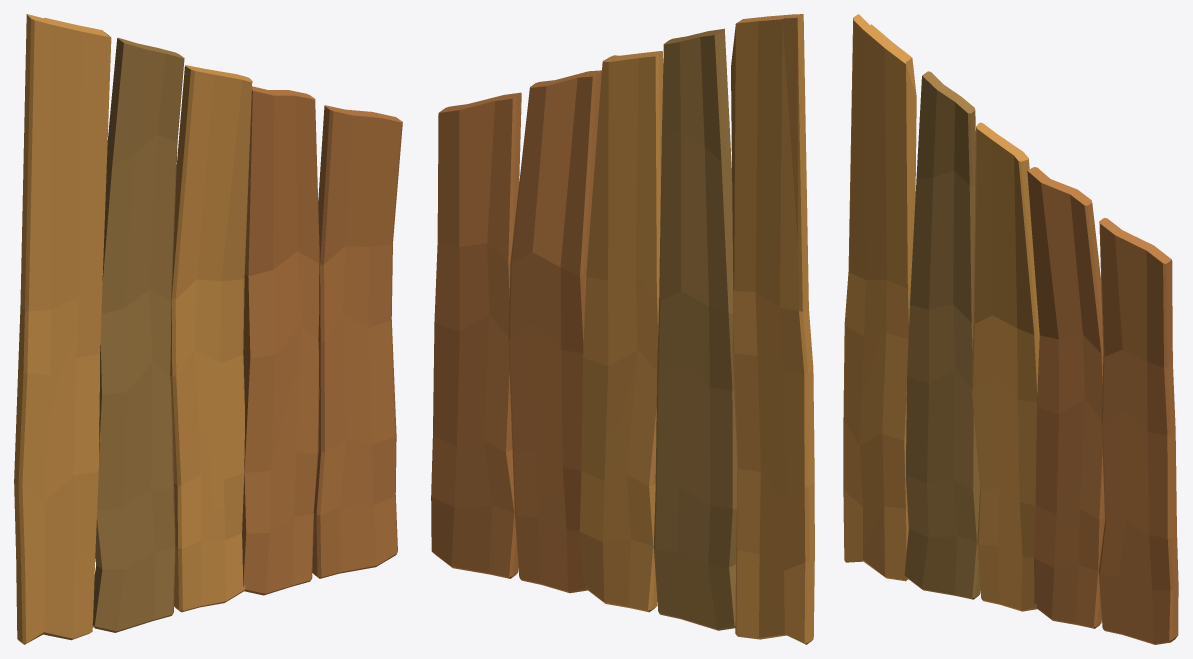
The model's file is Beach_House_Backside_02.fbx.
The picture shows the model from 3 angles, left to right: view 1: azimuth 30°, elevation 25°; view 2: azimuth 150°, elevation 25°; view 3: azimuth 330°, elevation 25°; orthographic projection. The views are drawn at different scales.
Parts seen in each view (by area): view 1: Beach_House_Backside_02; view 2: Beach_House_Backside_02; view 3: Beach_House_Backside_02.
Boxes of the visible parts, left/top/right/bottom form: Beach_House_Backside_02: left=14, top=14, right=402, bottom=644; Beach_House_Backside_02: left=431, top=14, right=814, bottom=644; Beach_House_Backside_02: left=843, top=14, right=1178, bottom=644.
Bounding box in the file's own units: 4.45 × 7.13 × 0.4881.
